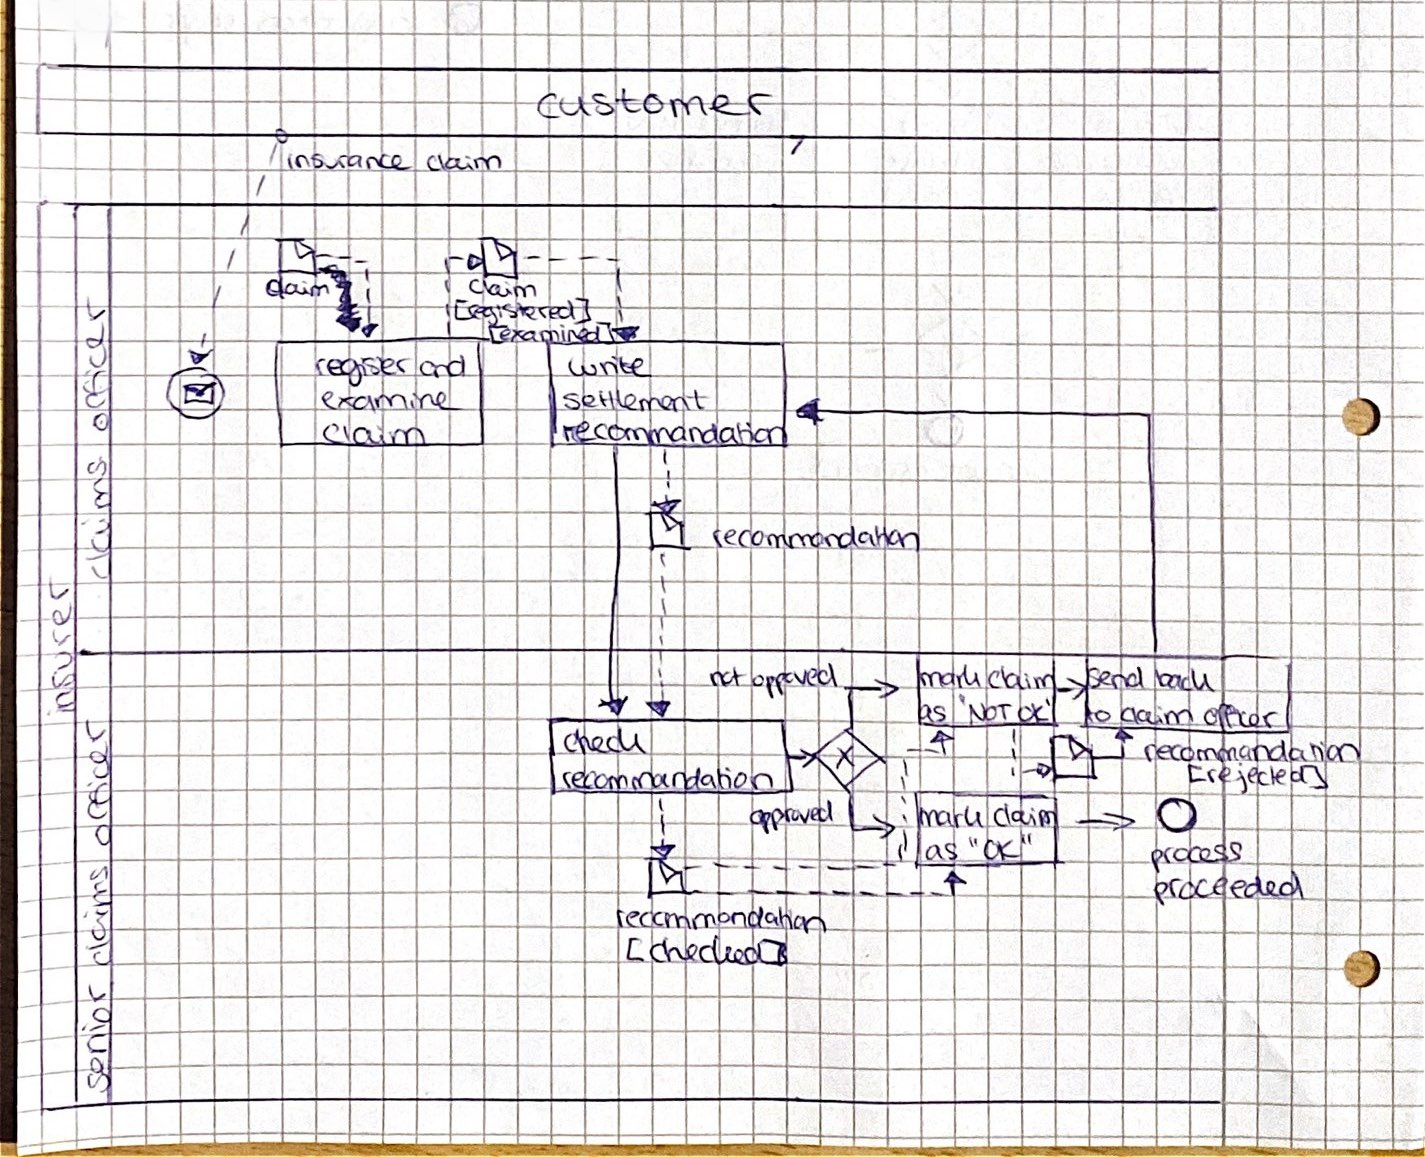Claim: (315, 418, 431, 455)
NOT: (954, 691, 1017, 734)
OK: (962, 829, 1038, 867), (1012, 695, 1057, 728)
[checked]: (621, 932, 795, 970)
[examined]: (481, 318, 621, 349)
[registered]: (447, 293, 599, 331)
[rejected]: (1182, 761, 1335, 800)
and: (413, 349, 473, 384)
approved: (746, 656, 843, 704), (743, 795, 839, 839)
as: (919, 836, 965, 867), (911, 698, 952, 728)
back: (1148, 662, 1221, 698)
check: (558, 723, 653, 761)
claim: (259, 264, 340, 307), (980, 659, 1063, 697), (987, 796, 1064, 834), (419, 148, 510, 178), (462, 272, 544, 303), (1113, 701, 1200, 730)
claims: (74, 452, 120, 588), (77, 858, 117, 972)
customer: (527, 78, 782, 125)
examine: (315, 384, 468, 419)
insurance: (280, 145, 417, 179)
insurer: (38, 567, 81, 724)
mark: (911, 659, 987, 697), (911, 799, 991, 834)
not: (702, 660, 751, 695)
officer: (77, 711, 119, 854), (76, 288, 116, 439), (1198, 698, 1283, 737)
proceeded: (1148, 867, 1310, 911)
process: (1145, 835, 1249, 880)
recommandation: (558, 416, 793, 453), (704, 519, 927, 558), (554, 761, 779, 797), (1137, 736, 1368, 769)
recommondation: (607, 900, 836, 941)
register: (306, 349, 417, 393)
send: (1079, 661, 1151, 695)
senior: (76, 978, 117, 1102)
settlement: (558, 383, 715, 418)
to: (1079, 697, 1118, 728)
write: (560, 349, 658, 384)
